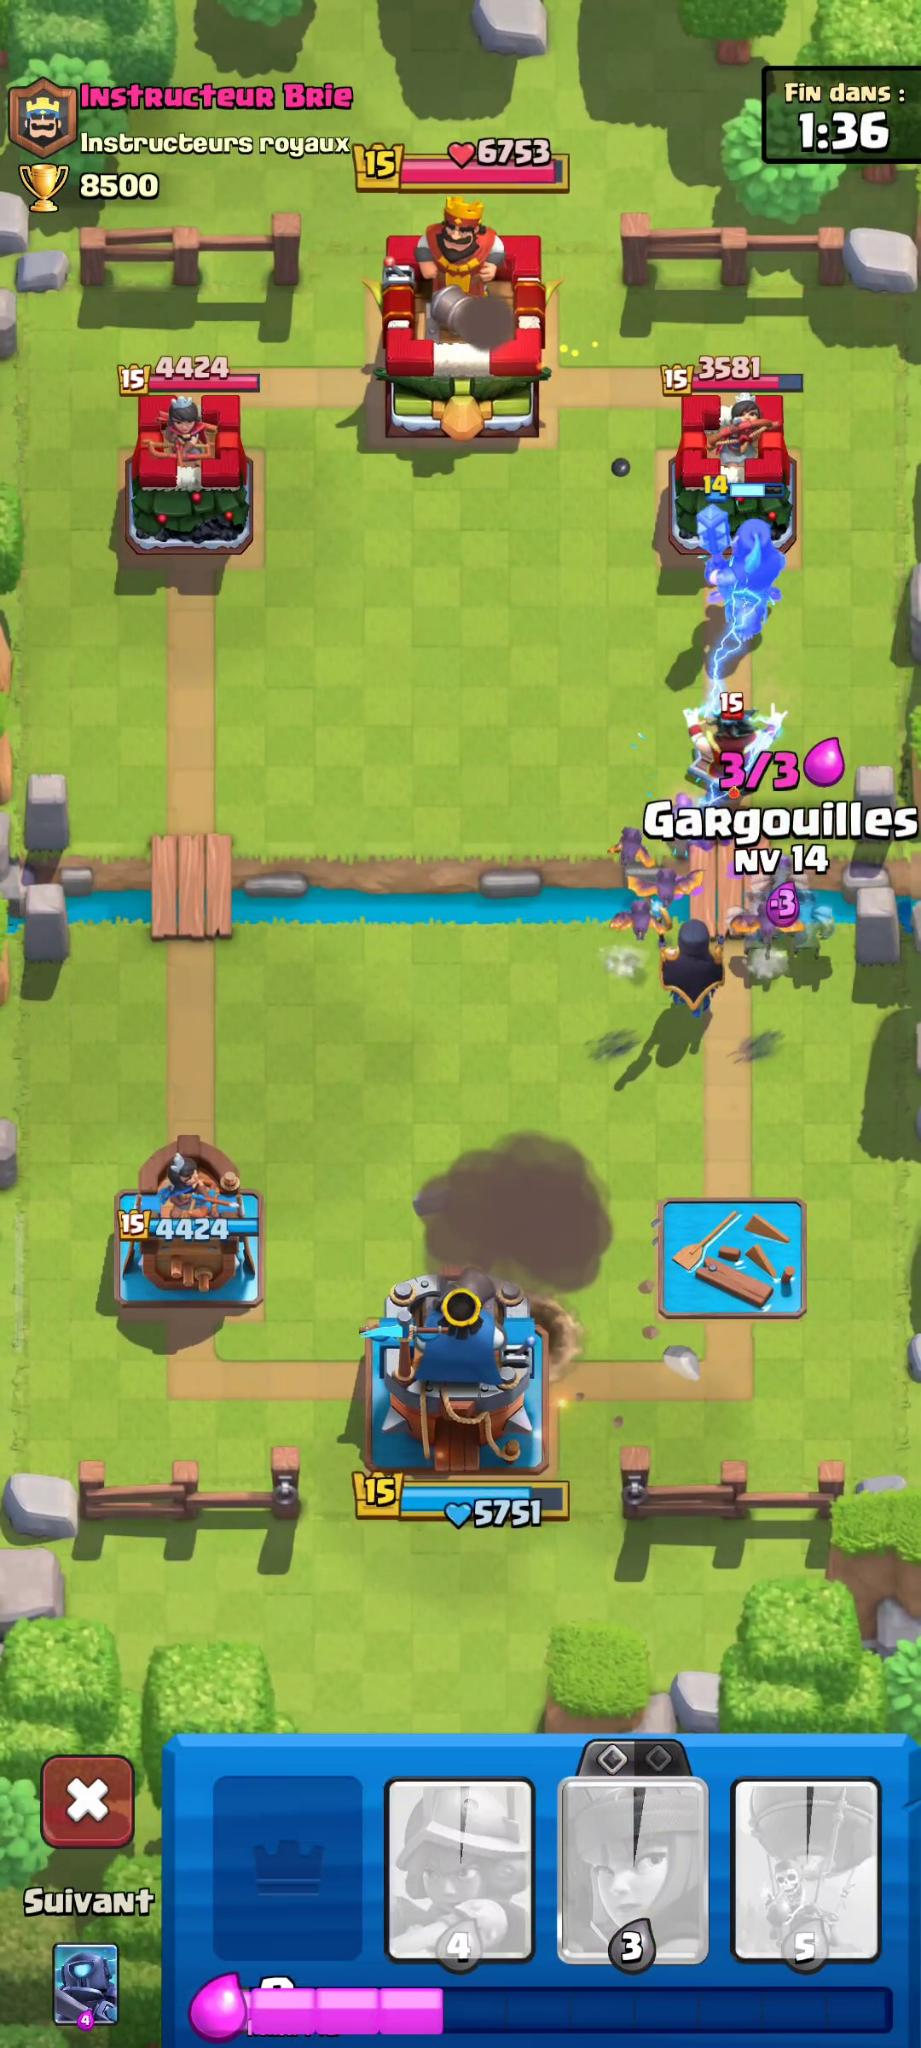bat: (594, 899, 691, 953), (628, 857, 708, 916), (600, 816, 662, 870)
gargouille: (717, 850, 816, 918), (776, 882, 848, 961), (734, 925, 800, 995)
